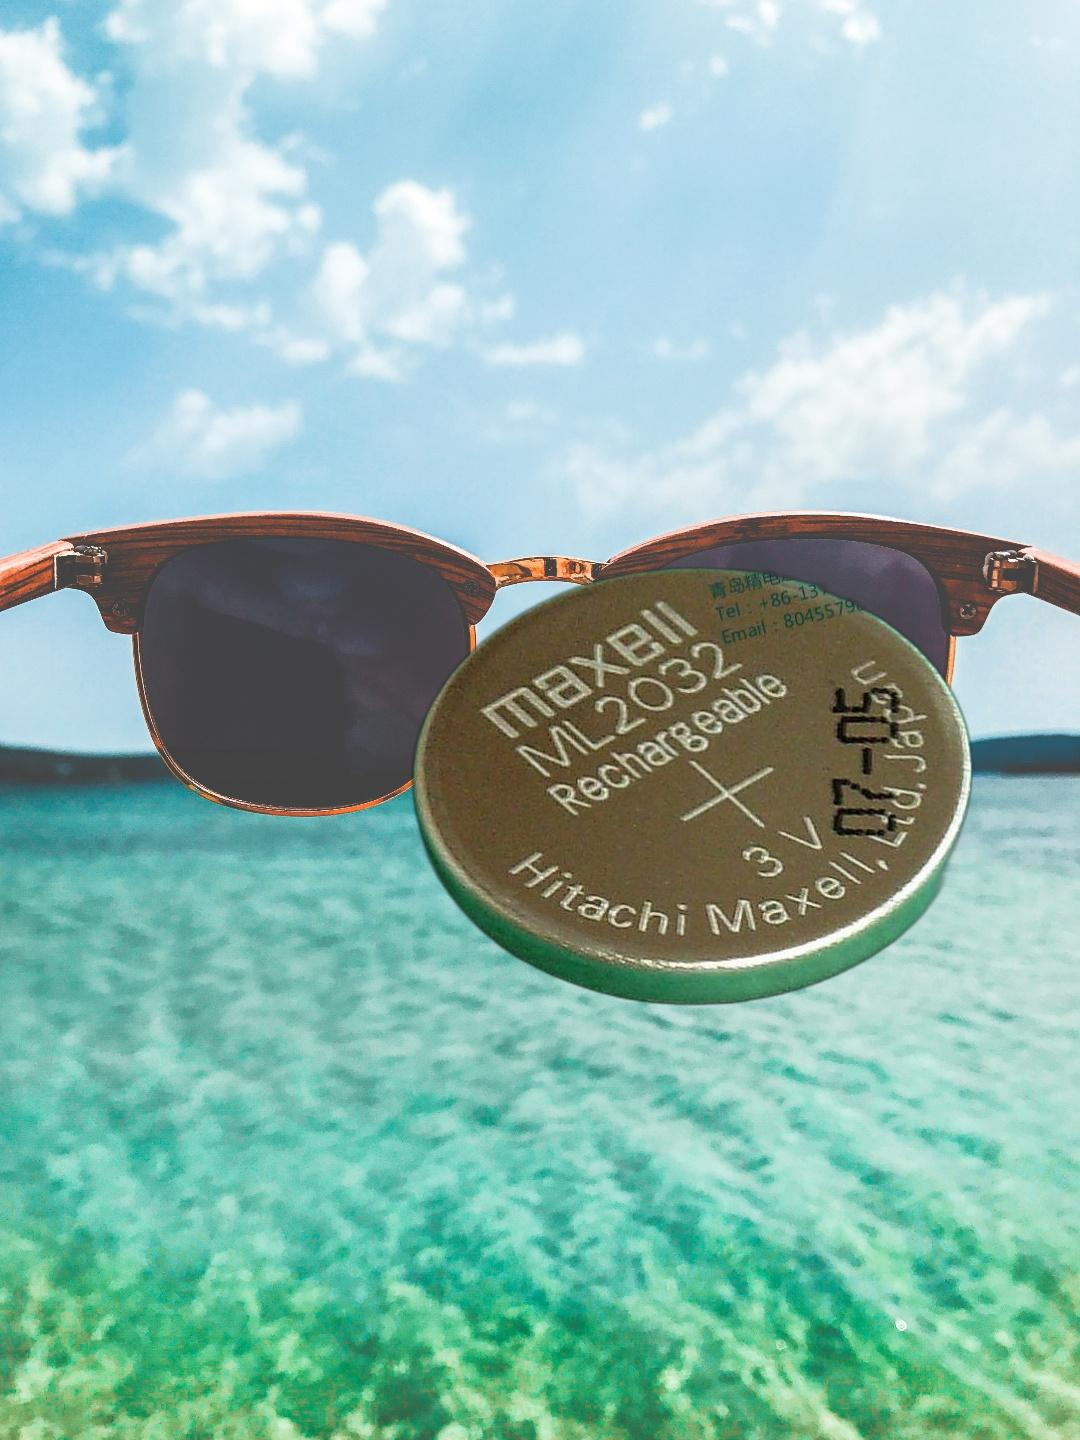battery: (407, 562, 978, 1010)
